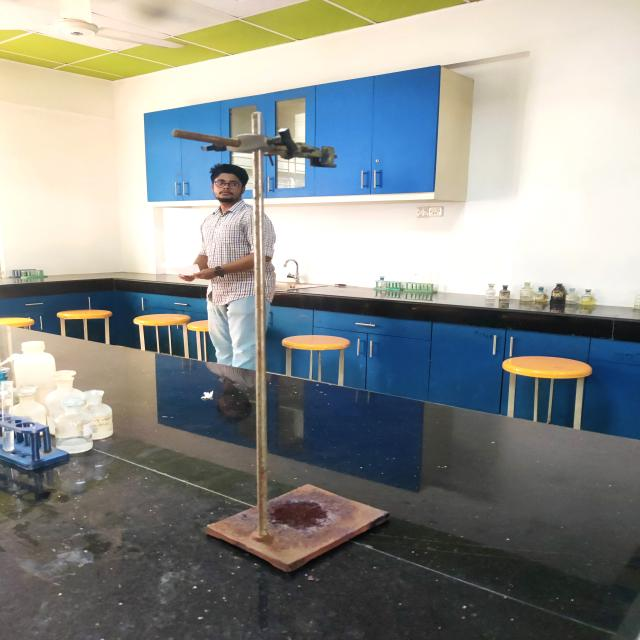Burette_Stands: (162, 94, 414, 594)
